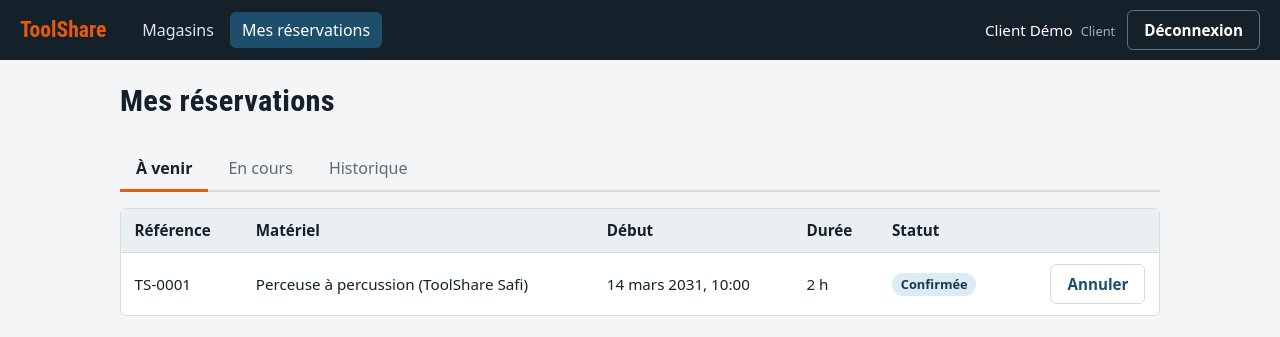
Test case: my reservations › cancels a reservation after confirmation and refreshes the list
Expected: the text "TS-0001" is shown, [121,253,242,315]
Click the button with aria-label "Annuler la réservation TS-0001": [1098, 284] box [1050,264,1145,304]
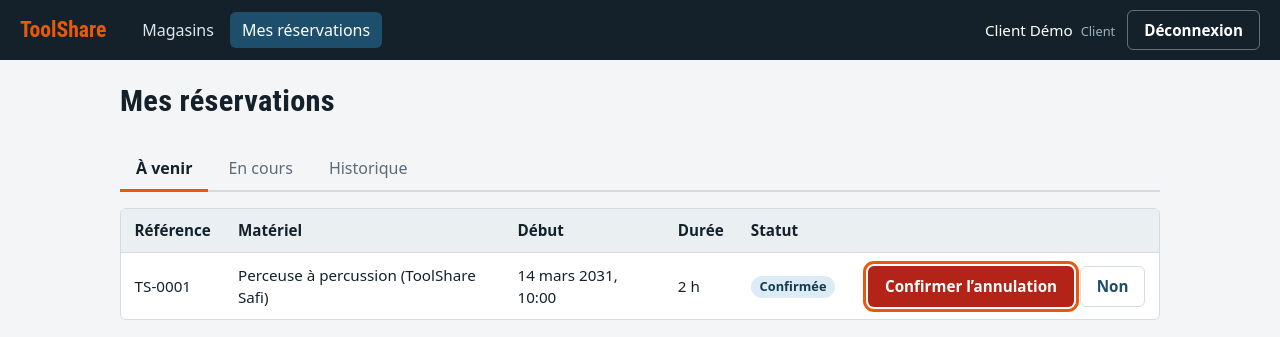
Click the button "Confirmer l’annulation": [971, 286] box [868,266,1074,307]
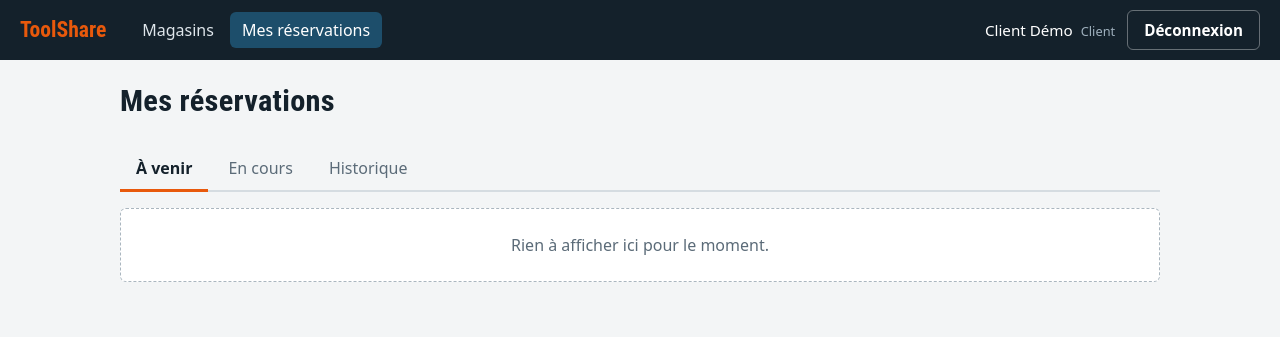
Expected: the text "Rien à afficher ici pour le moment." is shown, [120,208,1160,282]
